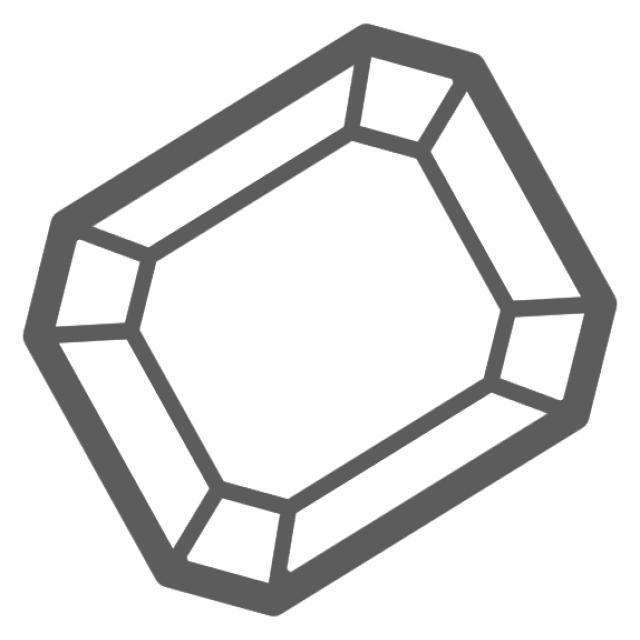emerald: (14, 16, 622, 627)
